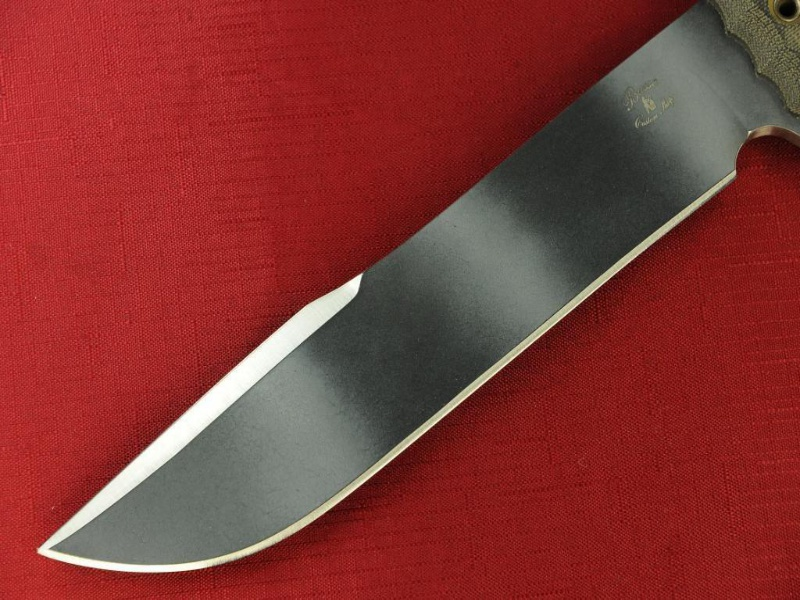knife: (34, 1, 796, 578)
